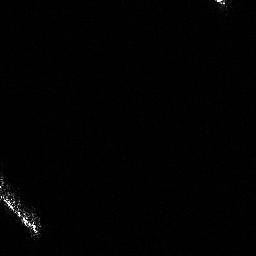ship: (1, 172, 46, 240)
